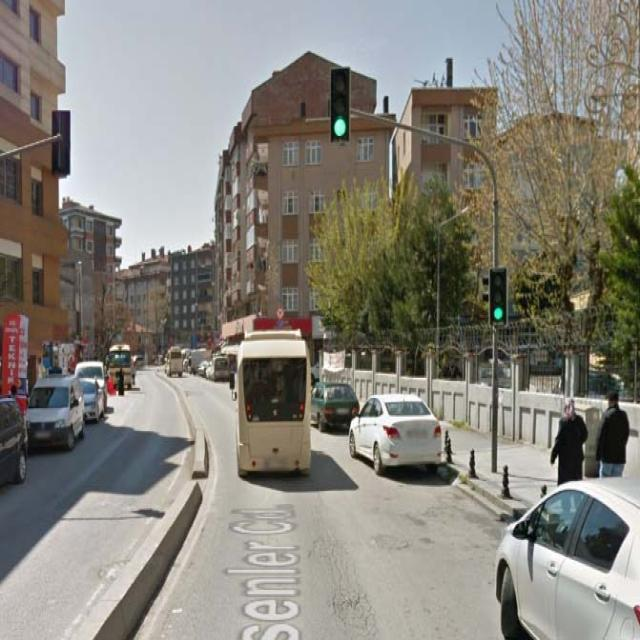yesil: (330, 68, 350, 142), (491, 269, 506, 325)
